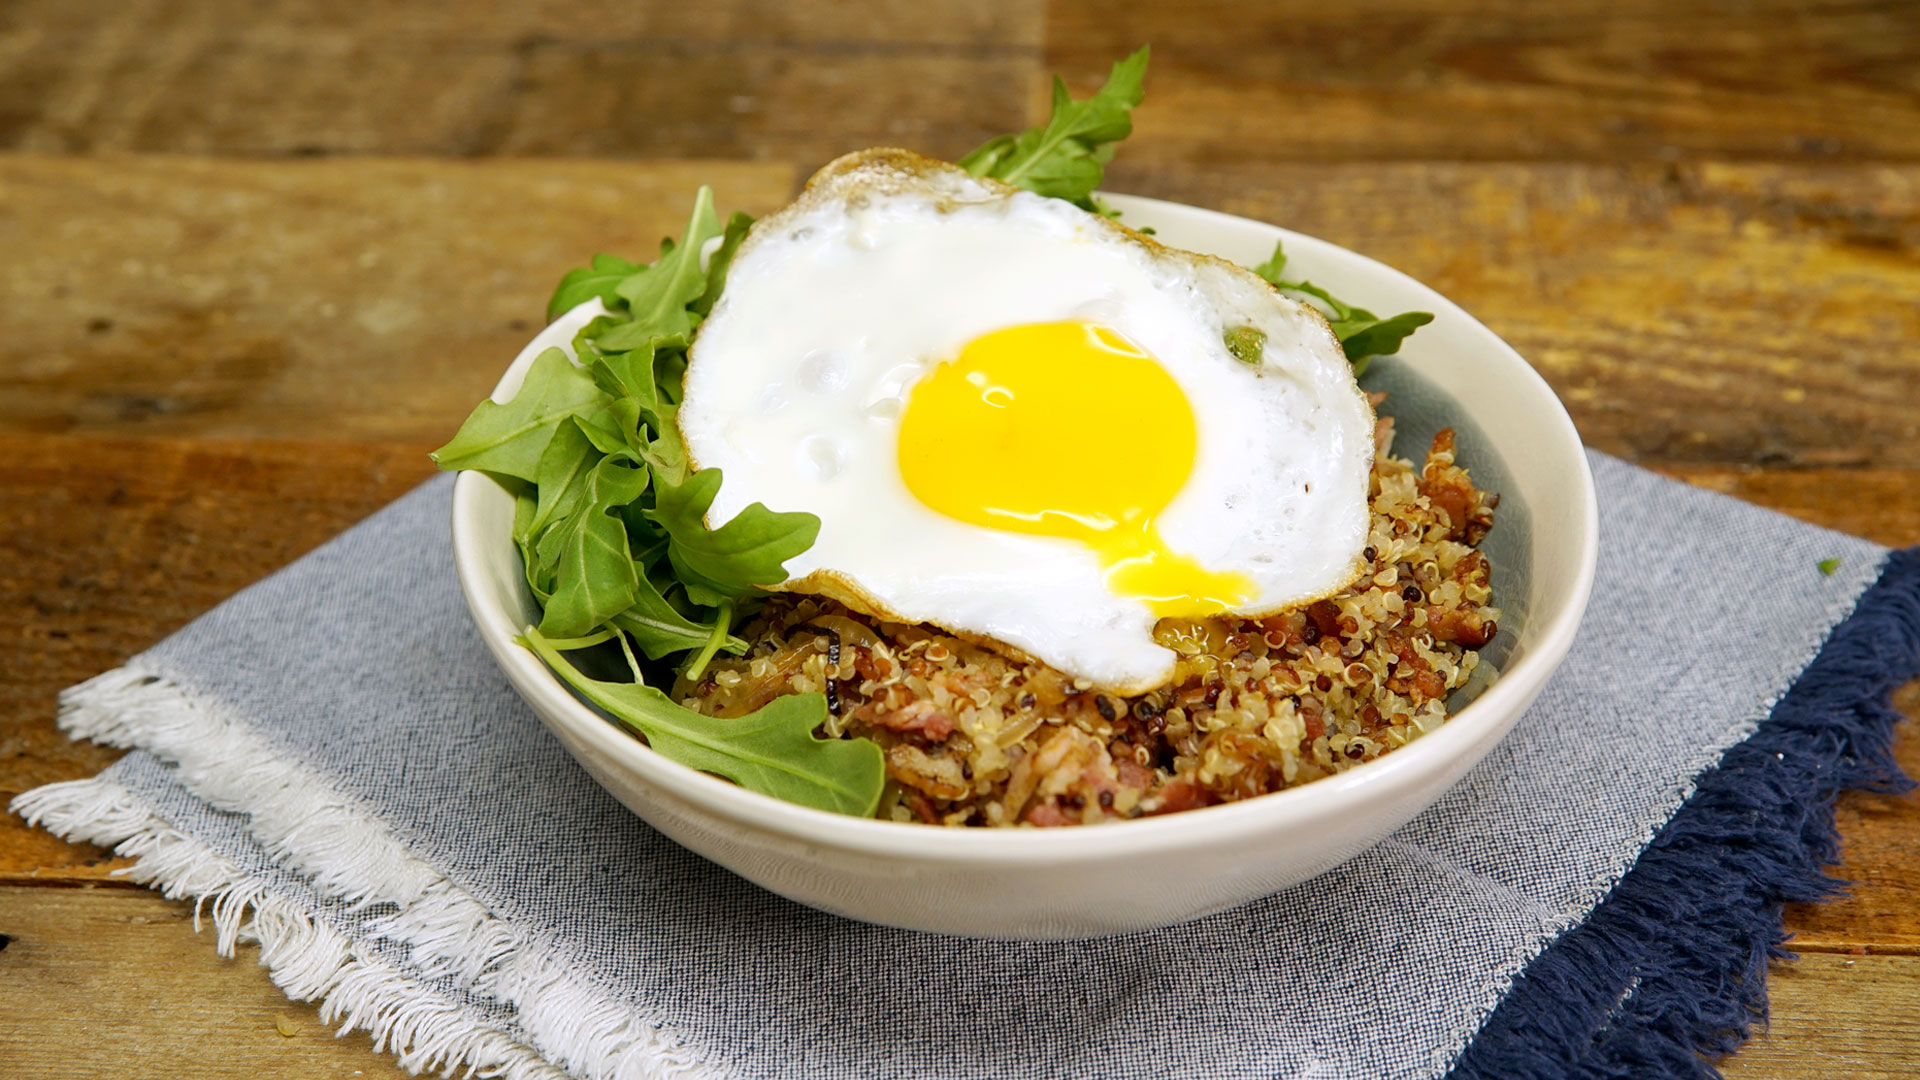fried egg: (709, 185, 1345, 670)
